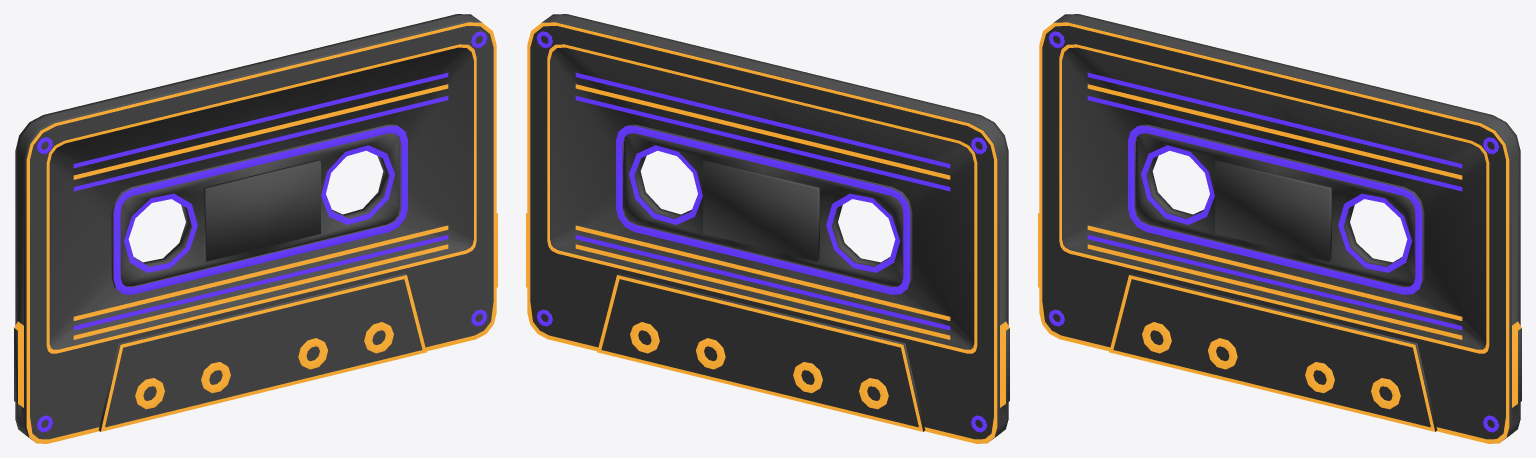
The model's file is neon-sign-casette-tape.glb.
3 views of the same model, side by side, from view 1: azimuth 30°, elevation 25°; view 2: azimuth 150°, elevation 25°; view 3: azimuth 330°, elevation 25° (orthographic).
Parts seen in each view (by area): view 1: sign; view 2: sign; view 3: sign.
Boxes of the visible parts, x1,y1,x2,y2 form: sign: (14,14,497,443); sign: (526,14,1009,443); sign: (1038,14,1521,443).
Size of what is drawn, in the model's own units: 1.07 by 0.6767 by 0.0725.
